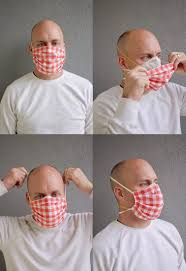masked: (111, 159, 165, 223), (115, 29, 169, 90), (26, 167, 70, 226), (23, 21, 70, 74)
